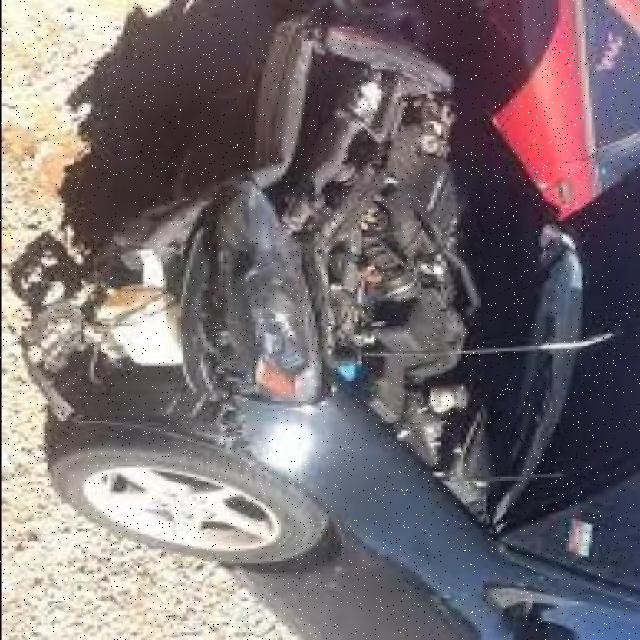damage: (21, 22, 454, 464)
